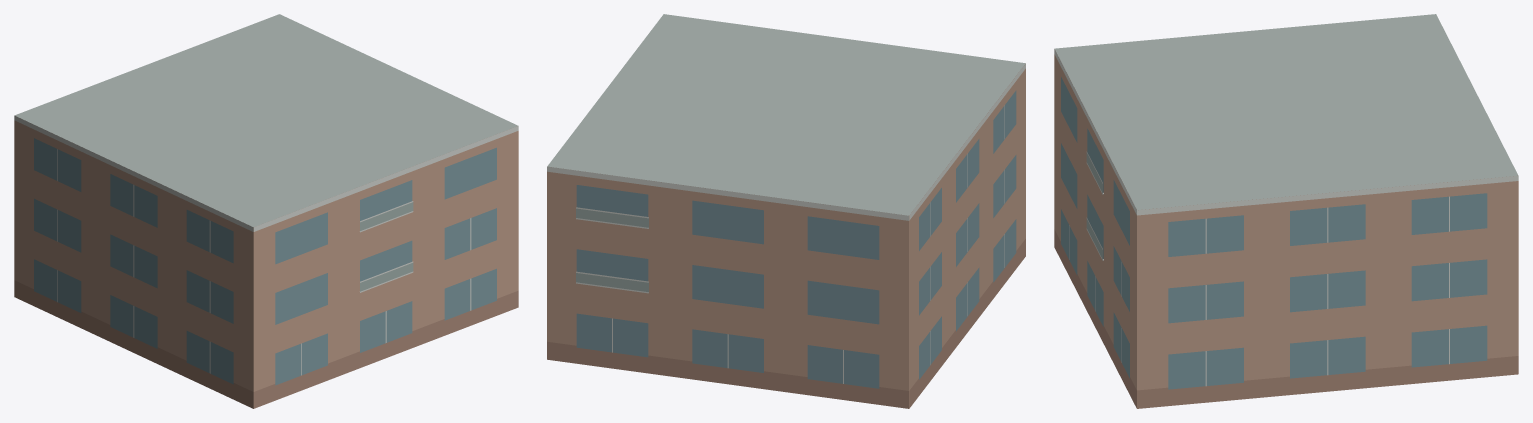
The model's file is survey-upis-32707544.glb.
3 renders of one model, left to right at view 1: azimuth 30°, elevation 25°; view 2: azimuth 150°, elevation 25°; view 3: azimuth 270°, elevation 25°, orthographic. The views are drawn at different scales.
Parts seen in each view (by area): view 1: survey-upis-32707544.tmp; view 2: survey-upis-32707544.tmp; view 3: survey-upis-32707544.tmp.
Part boxes in pixels (x1,y1,x2,y2): survey-upis-32707544.tmp: (14, 14, 518, 408); survey-upis-32707544.tmp: (547, 14, 1025, 408); survey-upis-32707544.tmp: (1054, 14, 1518, 408).
Size of the model in its own units: 19.39 by 9.15 by 19.38.
